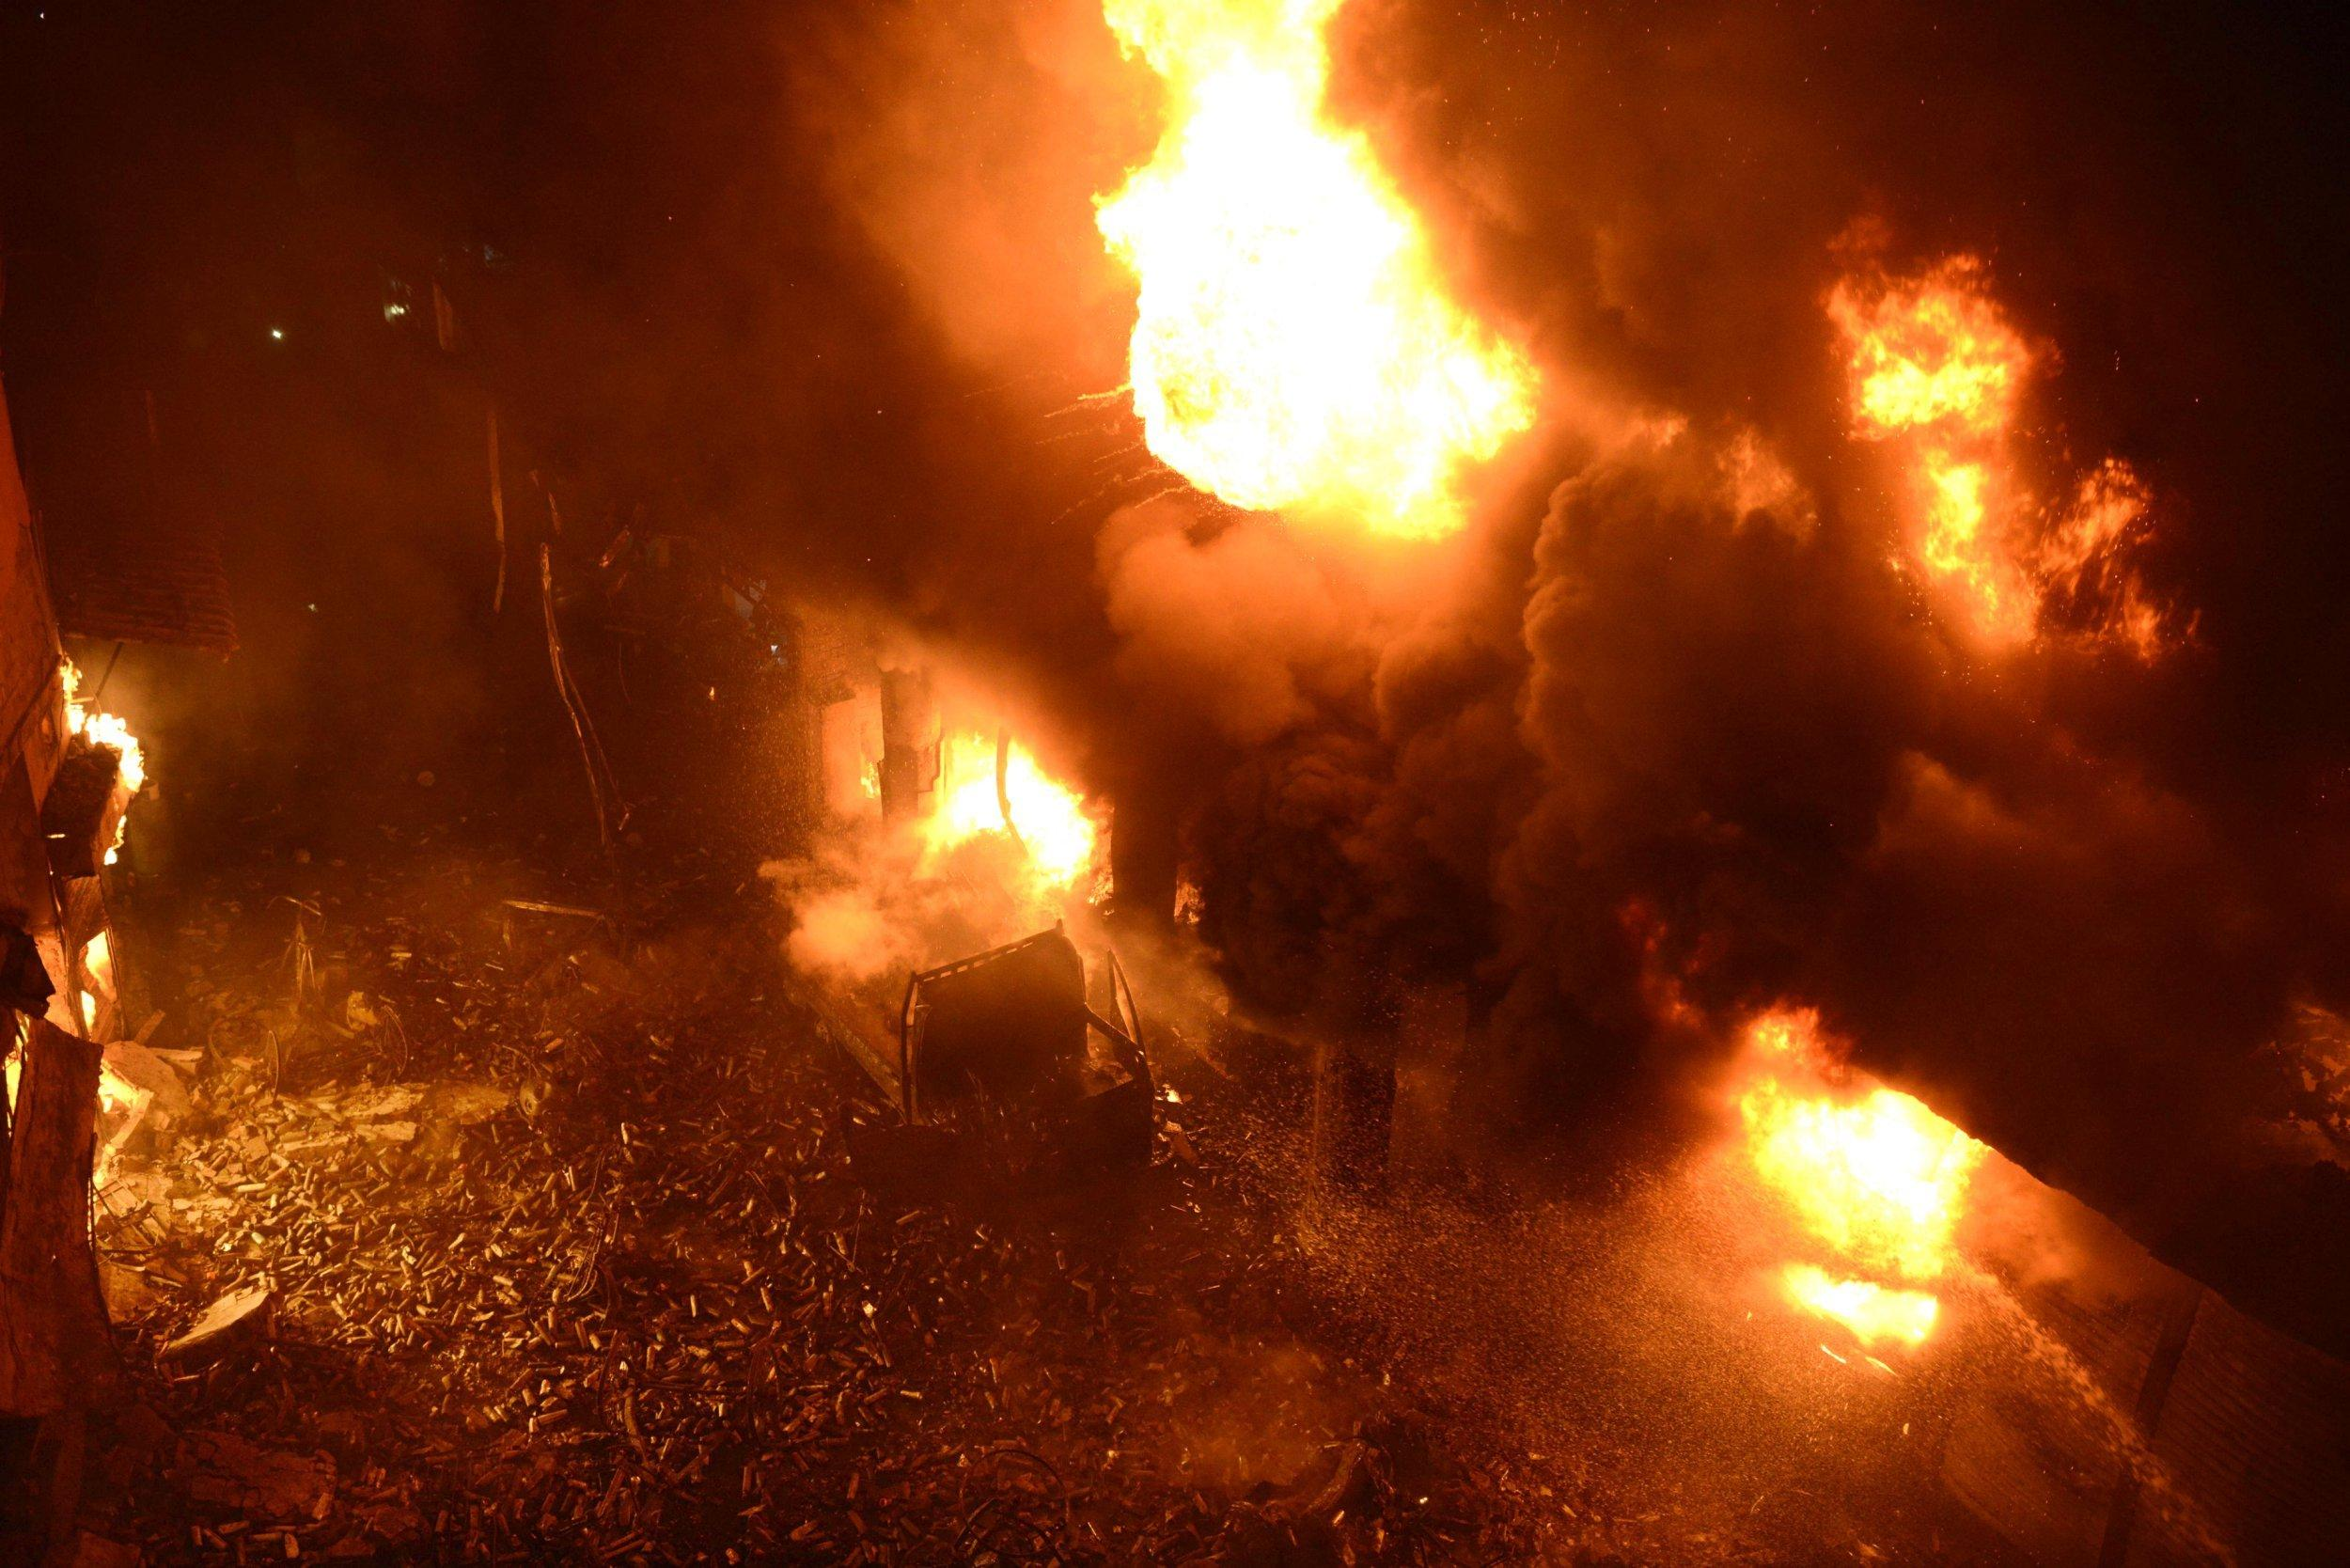fire: (1029, 0, 1587, 583), (1815, 192, 2184, 686), (1741, 1076, 1998, 1384), (828, 703, 1116, 933), (54, 642, 173, 824)
smoke: (1164, 457, 1795, 945), (828, 16, 1090, 493)
